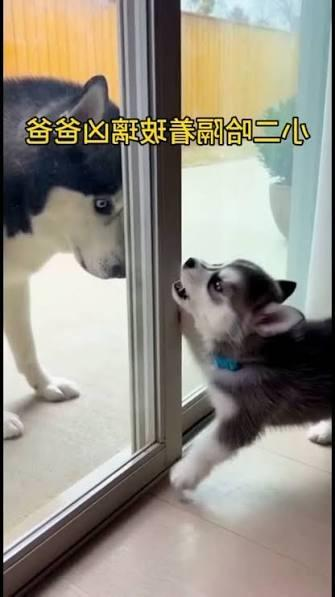adult_dog: (3, 69, 134, 441)
puppy-dog: (167, 253, 335, 502)
